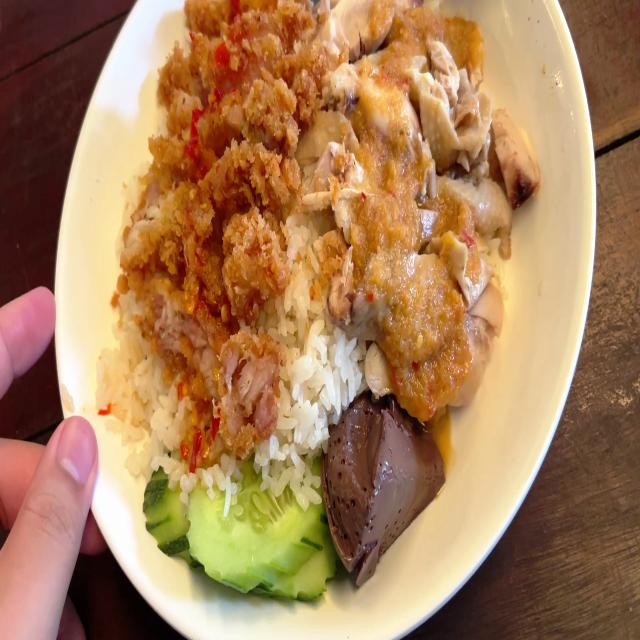boiled_chicken: (324, 0, 505, 392)
boiled_chicken_blood_jelly: (323, 384, 443, 572)
chicken_rice: (117, 0, 541, 600)
cucumber: (140, 435, 327, 598)
fried_chicken: (154, 0, 293, 447)
